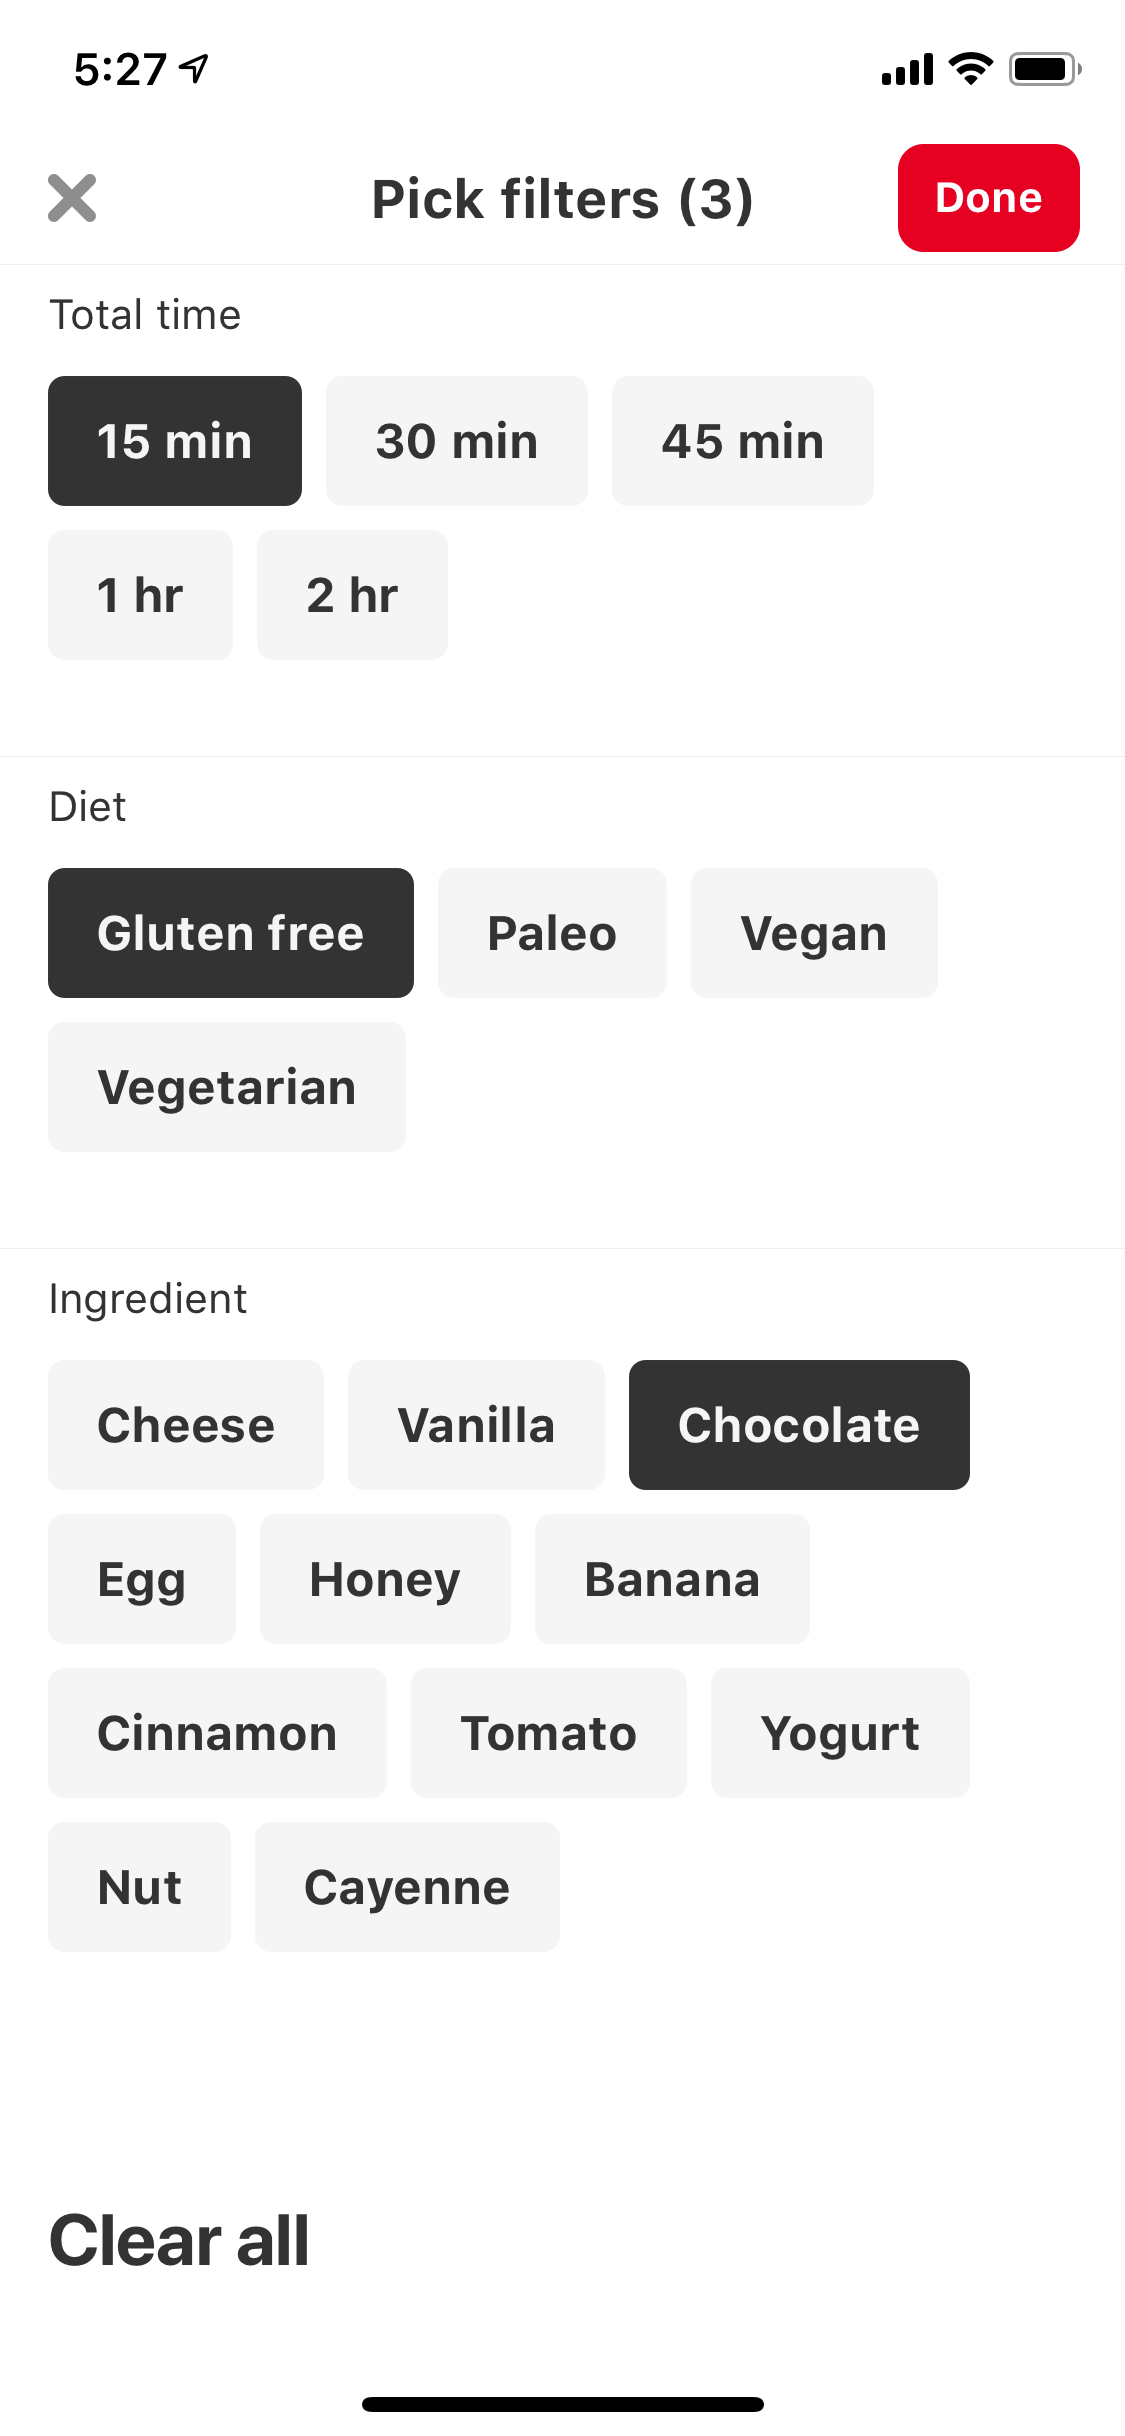Buttons: (36, 2173, 331, 2304), (879, 126, 1089, 259), (23, 129, 127, 256)
